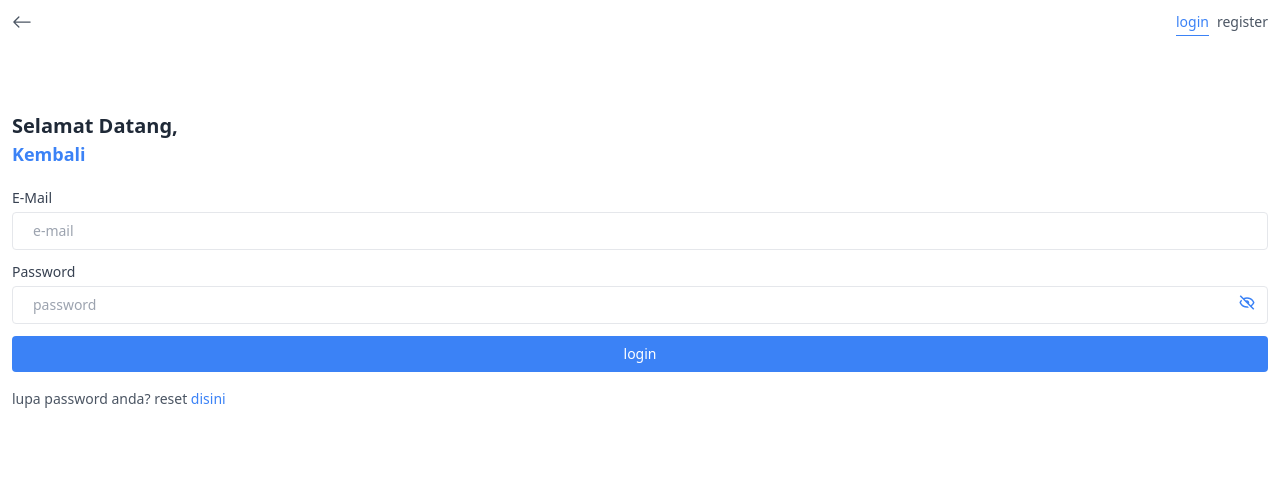
Test: Login › input email with invalid format
Type "dsdsd@.com" into the field with placeholder "e-mail". click: (640, 231)
box: [12,212,1268,250]
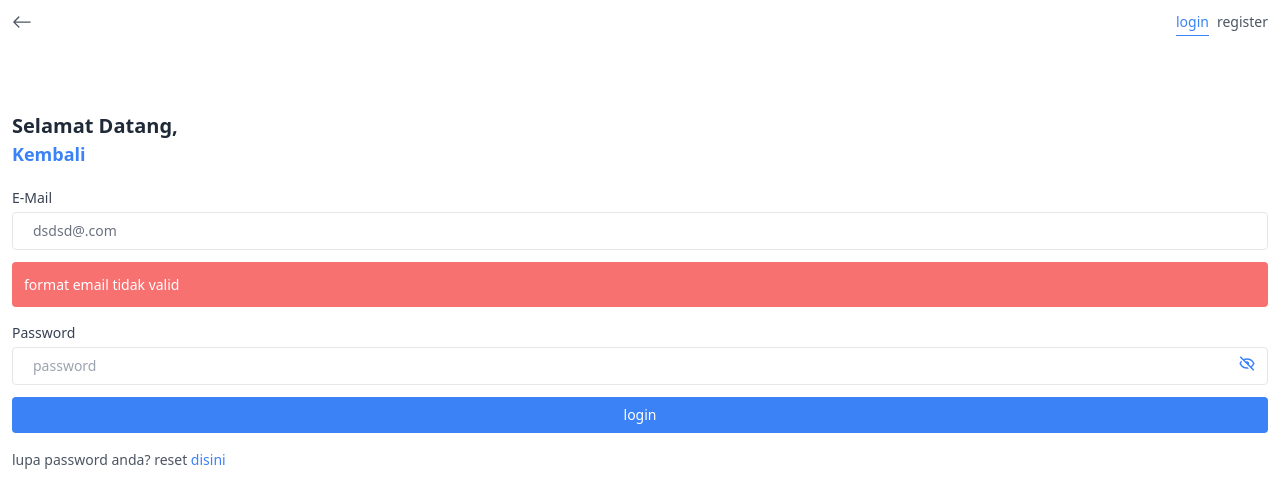
Result: the text "format email tidak valid" is shown at [24,275,180,294]
